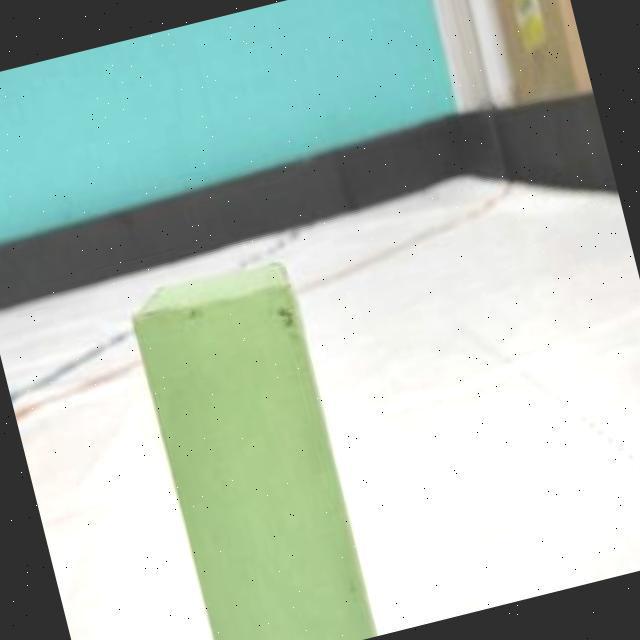greenbox: (125, 261, 378, 640)
